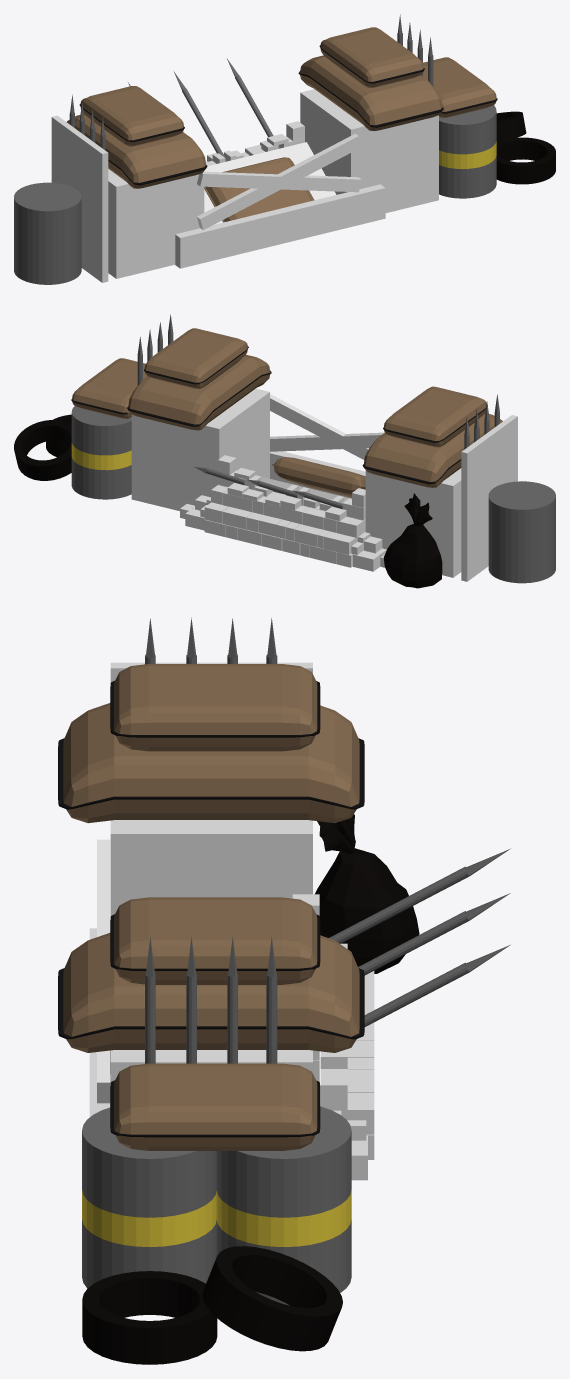
File: Barricada.fbx
The picture shows the model from 3 angles, top to bottom: view 1: azimuth 30°, elevation 25°; view 2: azimuth 150°, elevation 25°; view 3: azimuth 270°, elevation 25°; orthographic projection. The views are drawn at different scales.
Parts seen in each view (by area): view 1: Caixa de apoio 1.002, Madeira Grande 1.002, Caixa de apoio 2.001, Barril 3.001, Madeira em Pé.001, Saco Caixa.002, Barril 1.001, Saco Caixa.003, Saco Chão 1.005, Saco Chão 1.006, Saco Chão 1.004, Pneu 1.001 (+7 smaller); view 2: Caixa de apoio 1.002, Barril 3.001, Caixa de apoio 2.001, Madeira em Pé.001, Saco Caixa.002, Barril 2.001, Saco Caixa.003, Saco Chão 1.005, Saco Chão 1.006, Corpo.001, Saco Chão 1.004, Pneu 2.001 (+14 smaller); view 3: Saco Caixa.003, Saco Caixa.002, Barril 1.001, Saco Chão 1.006, Saco Chão 1.004, Saco Chão 1.005, Barril 2.001, Caixa de apoio 2.001, Pneu 2.001, Pneu 1.001, Corpo.001, Caixa de apoio 1.002 (+11 smaller).
Part boxes in pixels (x1,y1,x2,y2): Caixa de apoio 1.002: (300, 89, 438, 212); Madeira Grande 1.002: (175, 184, 385, 268); Caixa de apoio 2.001: (108, 169, 204, 278); Barril 3.001: (14, 182, 81, 284); Madeira em Pé.001: (51, 115, 108, 282); Saco Caixa.002: (298, 55, 443, 130); Barril 1.001: (439, 105, 496, 198); Saco Caixa.003: (67, 114, 207, 188); Saco Chão 1.005: (319, 27, 424, 87); Saco Chão 1.006: (79, 86, 184, 146); Saco Chão 1.004: (423, 57, 497, 117); Pneu 1.001: (496, 137, 555, 184); Caixa de apoio 1.002: (131, 388, 269, 510); Barril 3.001: (488, 481, 555, 583); Caixa de apoio 2.001: (365, 468, 461, 577); Madeira em Pé.001: (461, 415, 517, 581); Saco Caixa.002: (127, 354, 271, 430); Barril 2.001: (71, 406, 131, 499); Saco Caixa.003: (362, 413, 502, 487); Saco Chão 1.005: (144, 328, 248, 388); Saco Chão 1.006: (383, 386, 487, 447); Corpo.001: (383, 524, 442, 588); Saco Chão 1.004: (71, 358, 147, 418); Pneu 2.001: (14, 420, 71, 480); Saco Caixa.003: (58, 703, 364, 823); Saco Caixa.002: (58, 933, 364, 1052); Barril 1.001: (82, 1107, 216, 1288); Saco Chão 1.006: (110, 664, 320, 751); Saco Chão 1.004: (110, 1063, 320, 1150); Saco Chão 1.005: (110, 897, 320, 984); Barril 2.001: (216, 1106, 351, 1305); Caixa de apoio 2.001: (110, 820, 312, 916); Pneu 2.001: (202, 1246, 342, 1351); Pneu 1.001: (82, 1271, 217, 1364); Corpo.001: (315, 848, 419, 973); Caixa de apoio 1.002: (110, 1050, 312, 1082).
Bounding box in the file's own units: 883 × 260 × 336.
